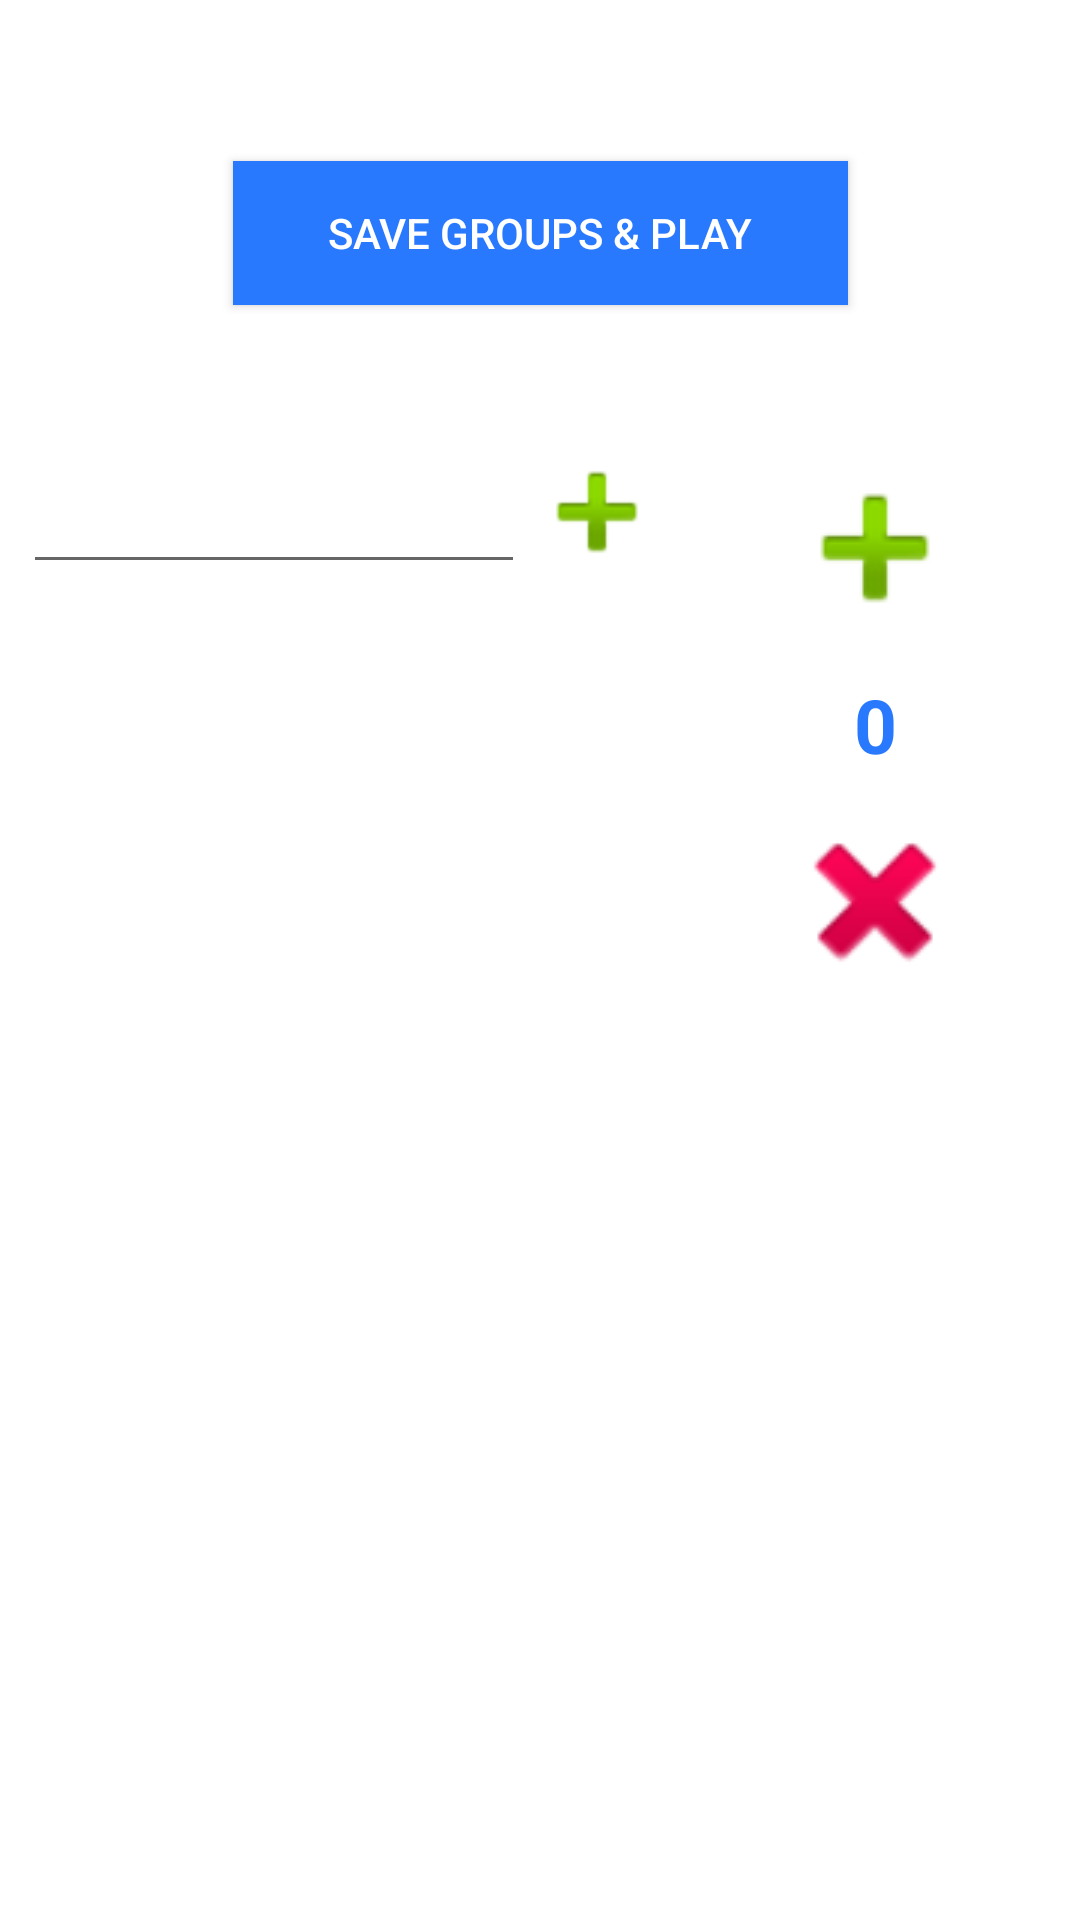

Screen size 1080*1920. Icon name, then its center in pixels as (x=x, y=y):
add: (x=597, y=512), (x=875, y=547)
delete: (x=875, y=902)
